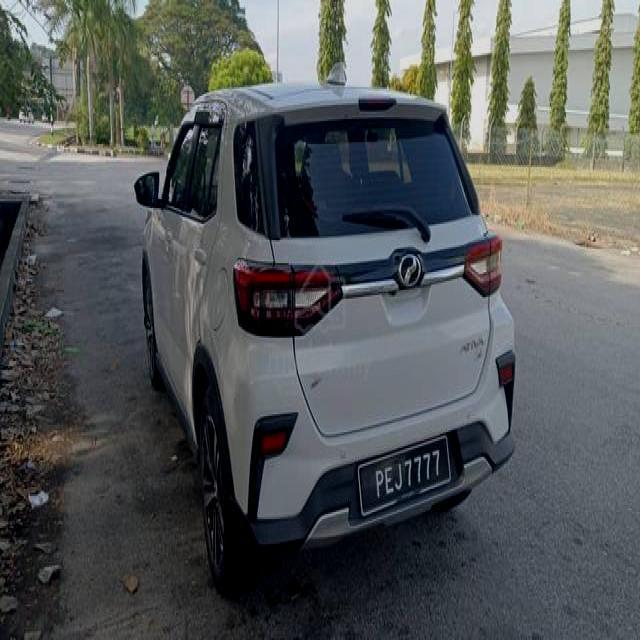PeroduaAtiva: (132, 67, 518, 591)
